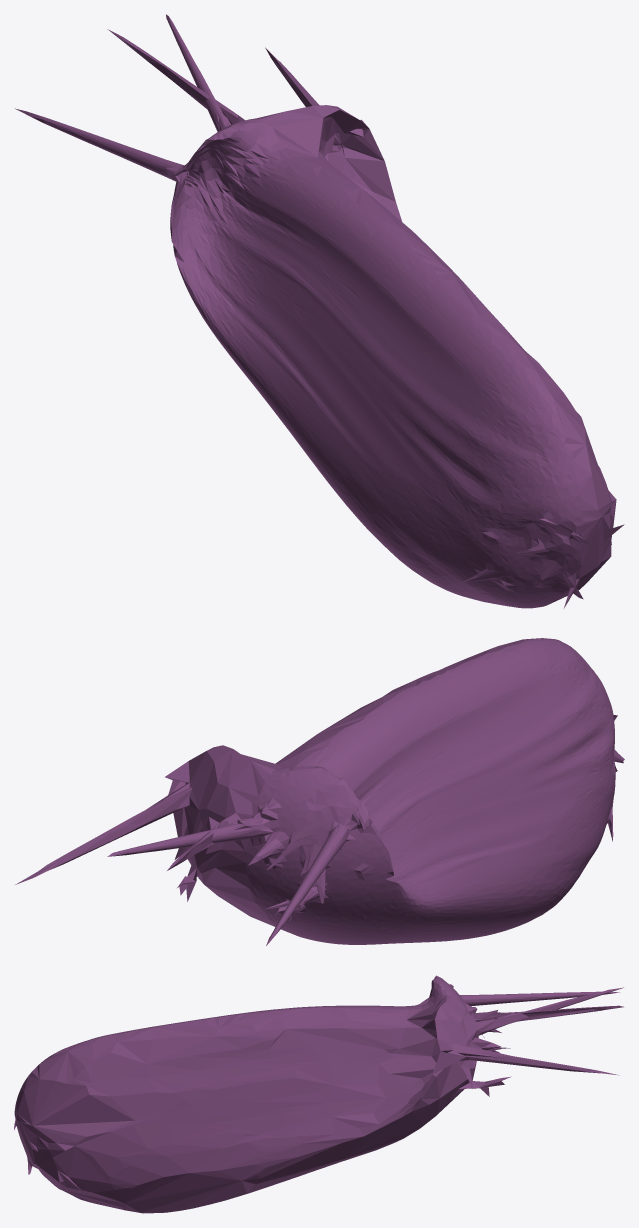
File: Smaller Purple Parasite .fbx
The picture shows the model from 3 angles, top to bottom: view 1: azimuth 30°, elevation 25°; view 2: azimuth 150°, elevation 25°; view 3: azimuth 270°, elevation 25°; orthographic projection. The views are drawn at different scales.
Visible parts, largest first — view 1: Purple_Parasite:Painted_Parasite:Mesh; view 2: Purple_Parasite:Painted_Parasite:Mesh; view 3: Purple_Parasite:Painted_Parasite:Mesh.
Part boxes in pixels (x1,y1,x2,y2): Purple_Parasite:Painted_Parasite:Mesh: (15, 14, 624, 608); Purple_Parasite:Painted_Parasite:Mesh: (15, 638, 624, 945); Purple_Parasite:Painted_Parasite:Mesh: (14, 975, 623, 1213).
Bounding box in the file's own units: 1.87 × 2.23 × 5.8.
